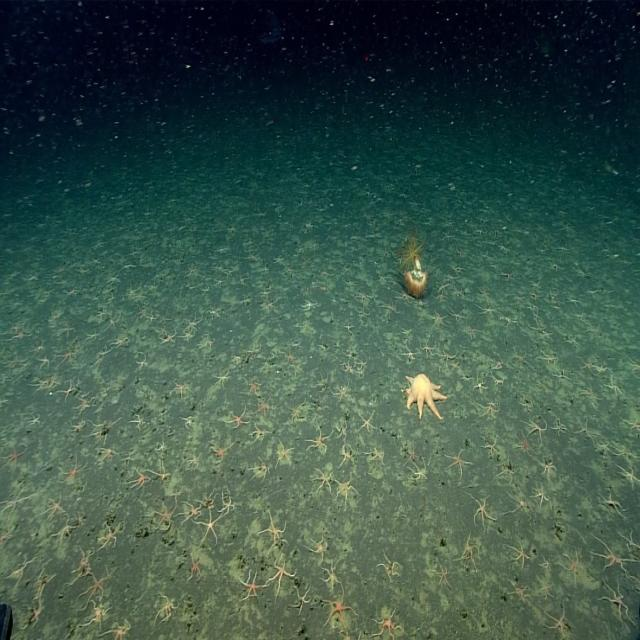brittle-stars: (591, 533, 628, 573), (604, 582, 634, 626), (324, 590, 354, 628), (83, 567, 111, 605), (0, 487, 32, 517), (507, 486, 536, 518), (270, 558, 296, 593), (152, 499, 178, 533), (262, 513, 288, 547), (471, 495, 496, 529), (375, 608, 401, 640), (0, 443, 27, 472), (60, 458, 86, 487), (240, 571, 264, 602), (561, 550, 583, 582), (545, 607, 569, 636), (200, 514, 221, 547), (156, 593, 178, 623), (73, 548, 94, 579), (55, 516, 78, 544), (461, 537, 481, 569), (446, 449, 470, 475), (87, 604, 110, 631), (97, 524, 119, 552), (378, 555, 400, 582), (574, 416, 595, 444), (336, 476, 356, 504), (603, 492, 626, 516), (308, 428, 330, 453), (229, 406, 251, 431), (106, 619, 132, 640), (92, 419, 116, 441), (312, 466, 332, 492), (180, 499, 202, 522), (432, 560, 450, 588), (250, 456, 270, 481), (510, 543, 530, 568), (44, 493, 64, 518), (276, 441, 294, 468), (618, 463, 639, 486), (526, 416, 546, 440), (131, 467, 152, 489), (293, 586, 310, 613), (497, 457, 516, 481), (210, 442, 230, 464), (535, 484, 554, 507), (322, 564, 340, 588), (310, 536, 328, 560), (479, 399, 500, 419), (511, 582, 530, 604), (29, 600, 45, 626), (517, 433, 534, 457), (255, 397, 273, 419), (72, 396, 91, 416), (0, 524, 14, 551), (483, 437, 500, 459), (290, 403, 306, 426), (188, 555, 202, 581), (607, 374, 624, 395), (536, 578, 552, 600), (624, 414, 640, 436), (99, 446, 118, 464), (334, 383, 352, 402), (538, 349, 557, 367), (581, 382, 599, 401), (358, 412, 375, 432), (412, 460, 429, 480), (220, 492, 234, 516), (369, 447, 386, 466), (155, 462, 171, 482), (62, 380, 78, 400), (131, 413, 148, 431), (60, 348, 78, 365), (579, 356, 596, 374), (252, 423, 268, 442), (173, 381, 190, 398), (430, 311, 447, 328), (59, 321, 76, 338), (244, 378, 260, 396), (461, 322, 479, 338), (341, 444, 354, 466), (214, 372, 231, 388), (539, 458, 554, 476), (440, 349, 458, 364), (200, 335, 215, 353), (552, 418, 566, 437), (161, 331, 177, 347), (378, 298, 394, 314), (398, 289, 414, 305), (449, 308, 466, 323), (37, 353, 52, 370), (421, 340, 435, 358), (475, 377, 489, 395), (336, 421, 349, 440), (539, 554, 552, 573), (479, 304, 495, 319), (186, 313, 201, 329), (491, 354, 505, 371), (112, 337, 129, 351), (564, 335, 579, 350), (406, 448, 420, 464), (498, 269, 514, 283), (71, 419, 87, 433), (300, 317, 314, 333), (137, 351, 148, 371), (514, 349, 528, 364), (181, 414, 194, 430), (630, 356, 640, 376), (138, 358, 149, 376), (404, 346, 418, 360), (478, 286, 492, 300), (180, 330, 194, 344), (88, 329, 101, 344), (160, 311, 173, 326), (29, 413, 42, 428), (284, 348, 296, 364), (304, 300, 318, 313), (128, 283, 139, 299), (358, 290, 371, 303), (107, 273, 120, 286), (158, 440, 170, 454), (343, 360, 355, 374), (261, 286, 273, 299), (274, 252, 286, 264), (357, 357, 368, 370), (214, 276, 225, 289), (186, 265, 197, 278), (346, 278, 358, 289), (356, 365, 365, 378)
